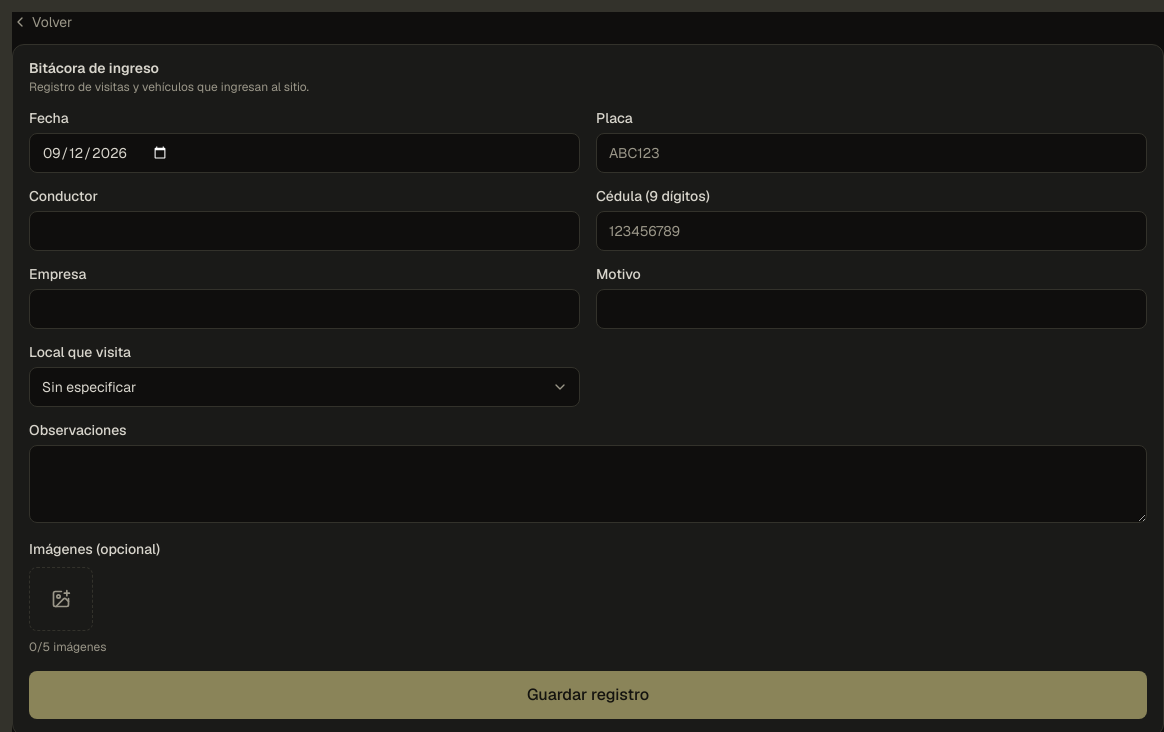
it: EntryLogForm › muestra el campo de detalle al seleccionar Otro como local
Select "Otro" in the dropdown labelled "Local que visita" at (304, 387), box [29,367,580,407]
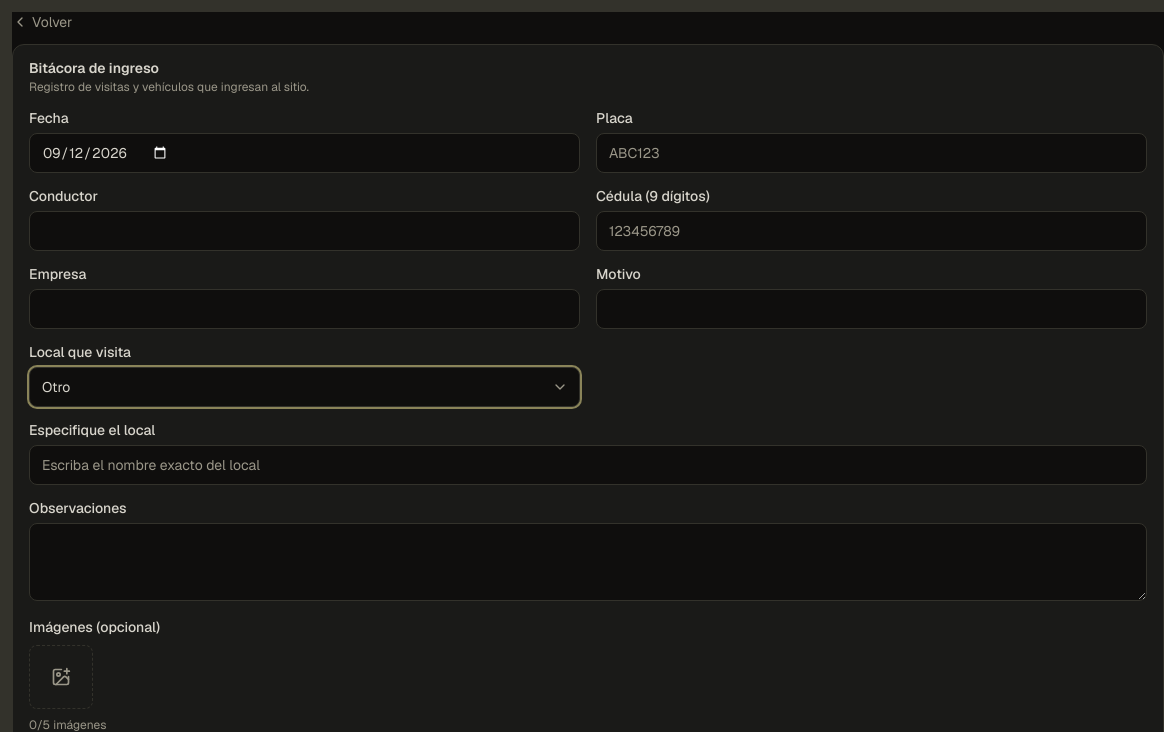
Expected: the field labelled "Especifique el local" is shown, [29,445,1147,485]
